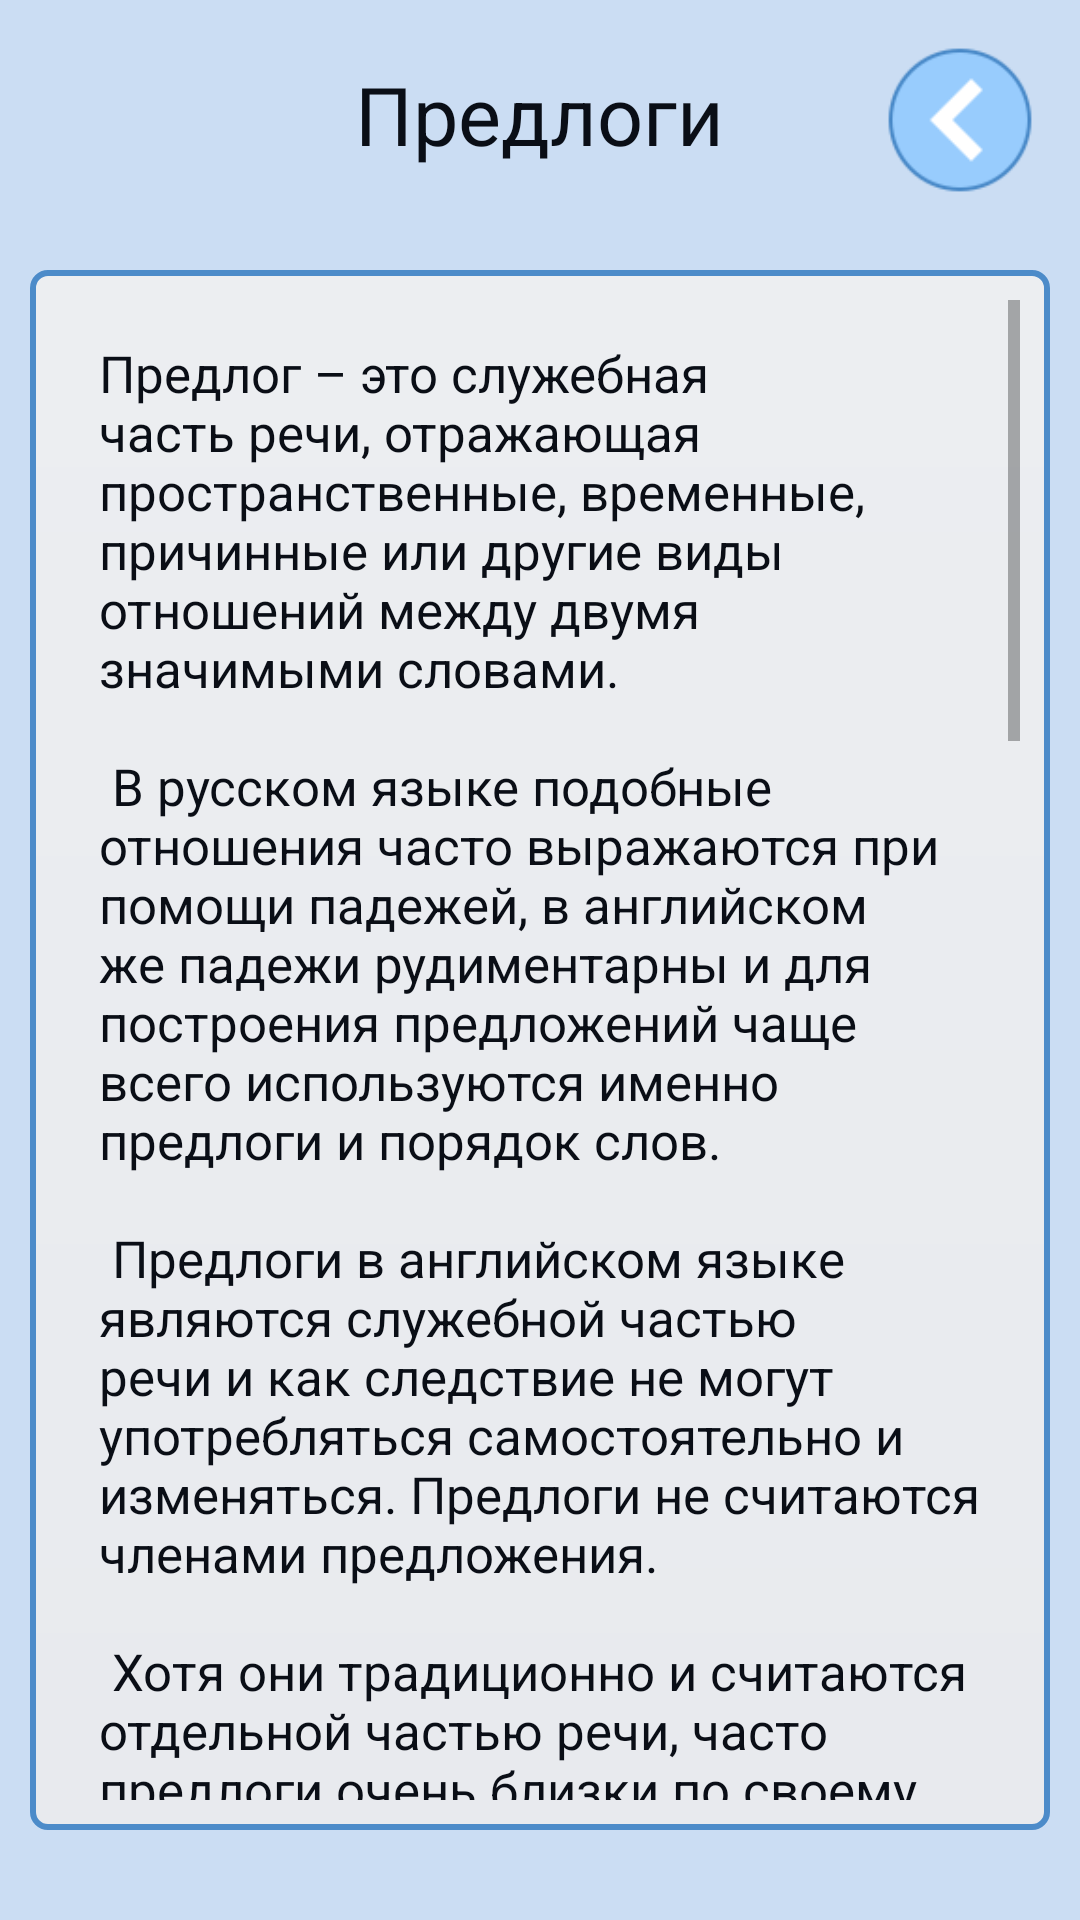

Icon click points for this 1080px×1920px phone screenshot, format [x,y]:
arrow menu: [960,120]
